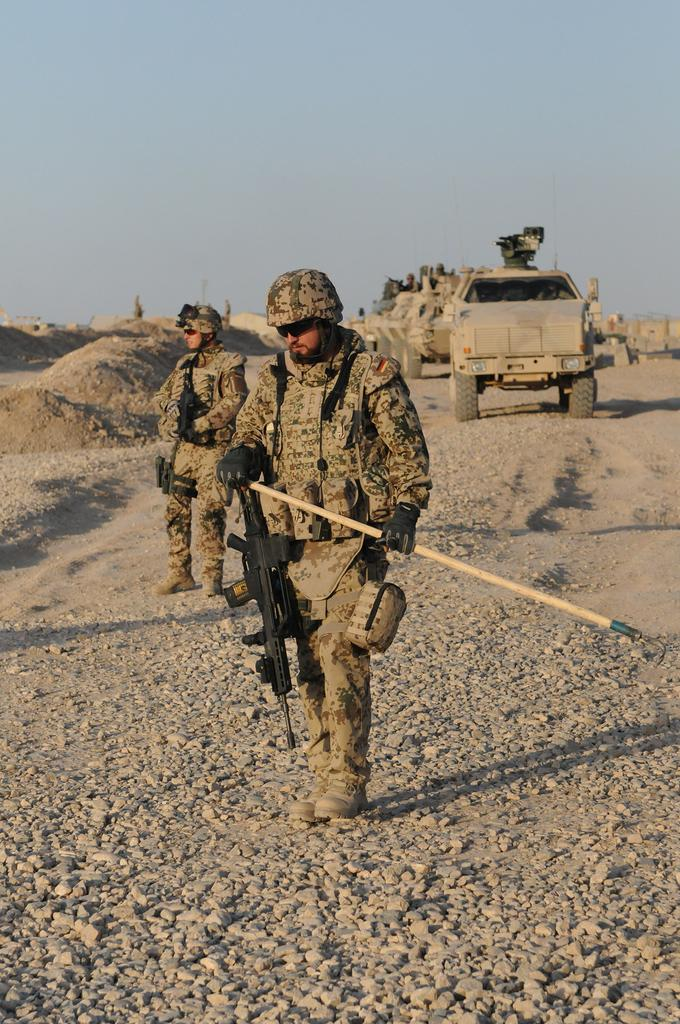Rifle: (227, 455, 328, 765)
